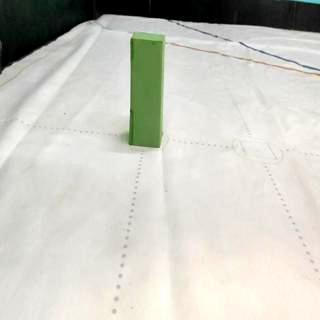greenbox: (130, 31, 166, 149)
